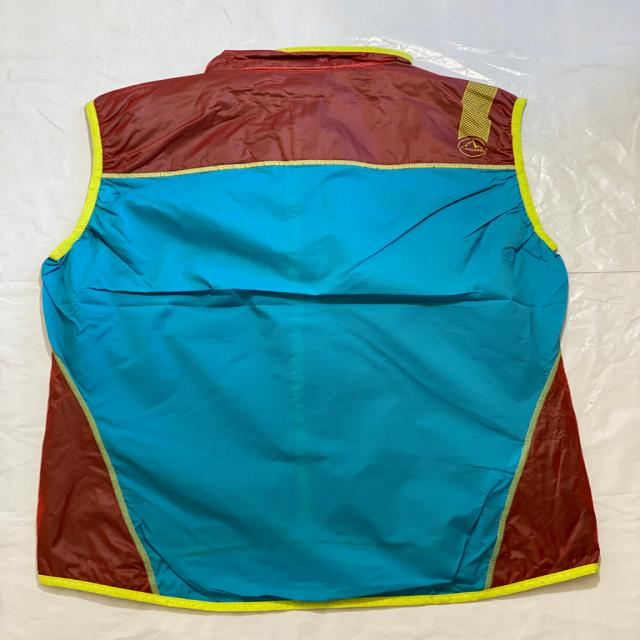Reflective-Jacket: (3, 17, 640, 640)
